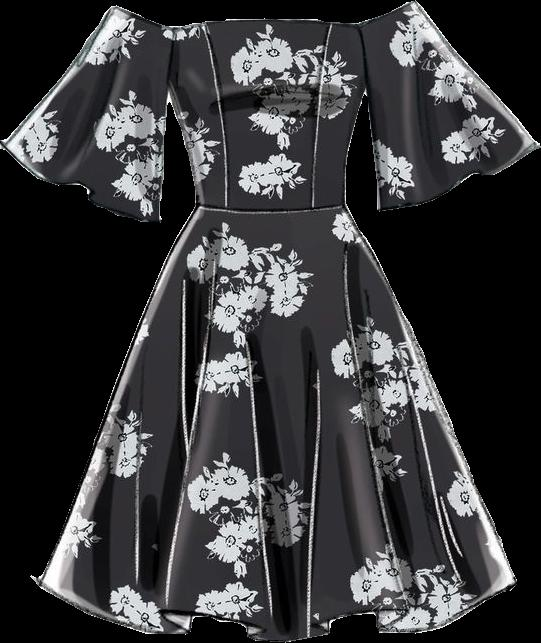Bodice: (168, 19, 365, 214)
Hemline: (36, 577, 519, 642)
Neckline: (169, 15, 362, 36)
Skirt: (33, 207, 515, 641)
Sleeve: (359, 1, 540, 211), (0, 5, 173, 222)
Sleeveline: (110, 2, 178, 80), (356, 1, 419, 84)
Waistline: (194, 204, 348, 219)
